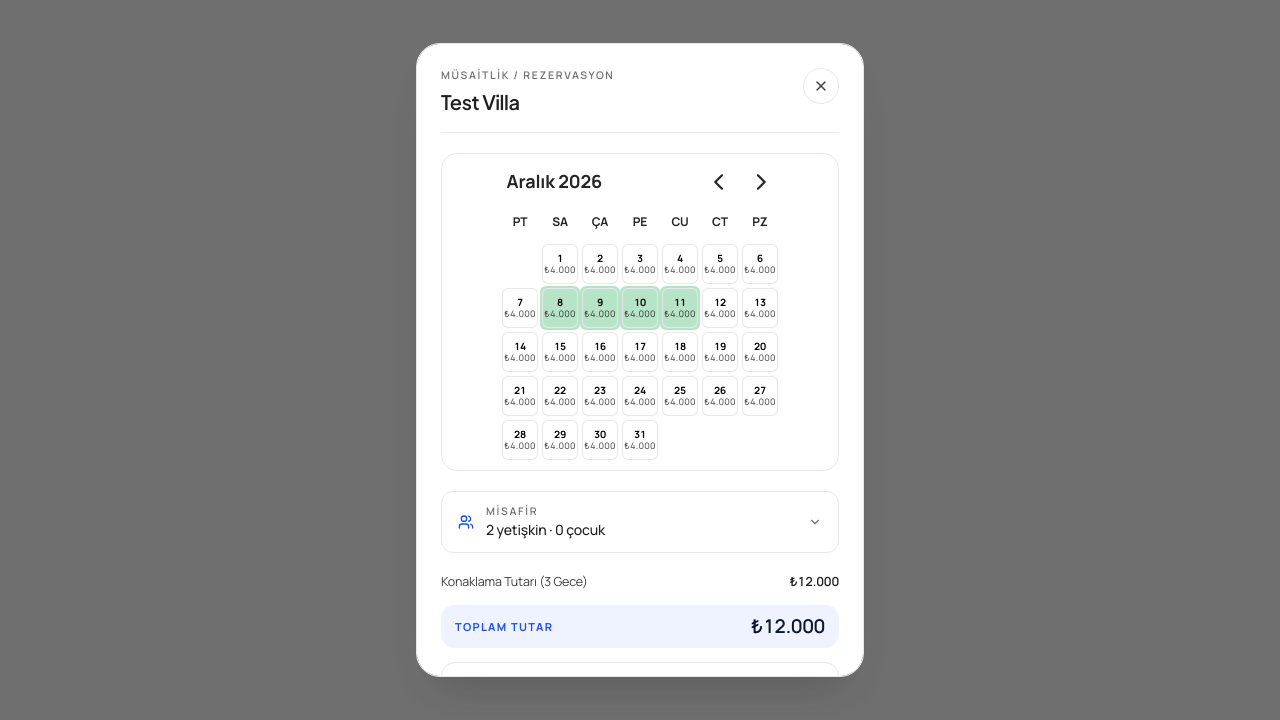
Test case: VillaCardBookingModal — URL'den gelen tarihler › 6) kullanıcı YENİ tarih seçerse normal seçim davranışı çalışmaya devam eder
Expected: the text "Konaklama Tutarı (3 Gece)" is shown, [441,573,588,592]
Step 1. Click the cell "20 ₺4.000" → (760, 352), box [740,330,780,374]
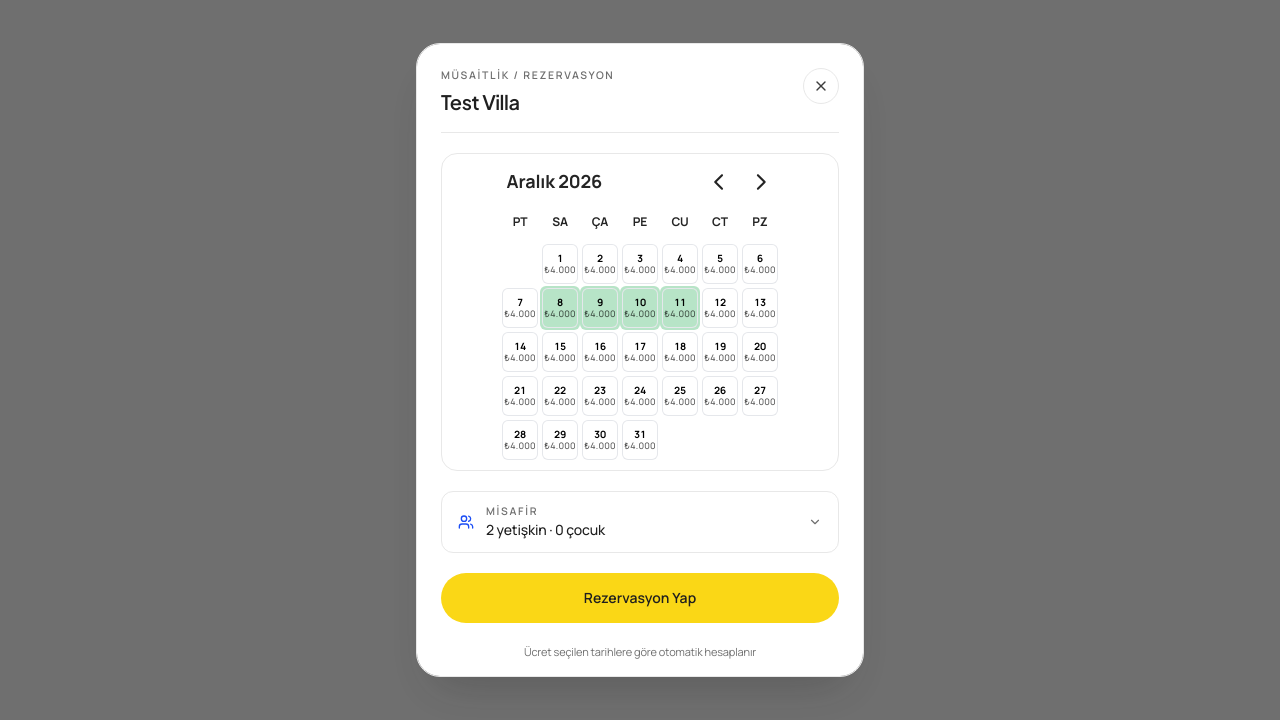
Step 2. Click the cell "25 ₺4.000" → (680, 396), box [660,374,700,418]
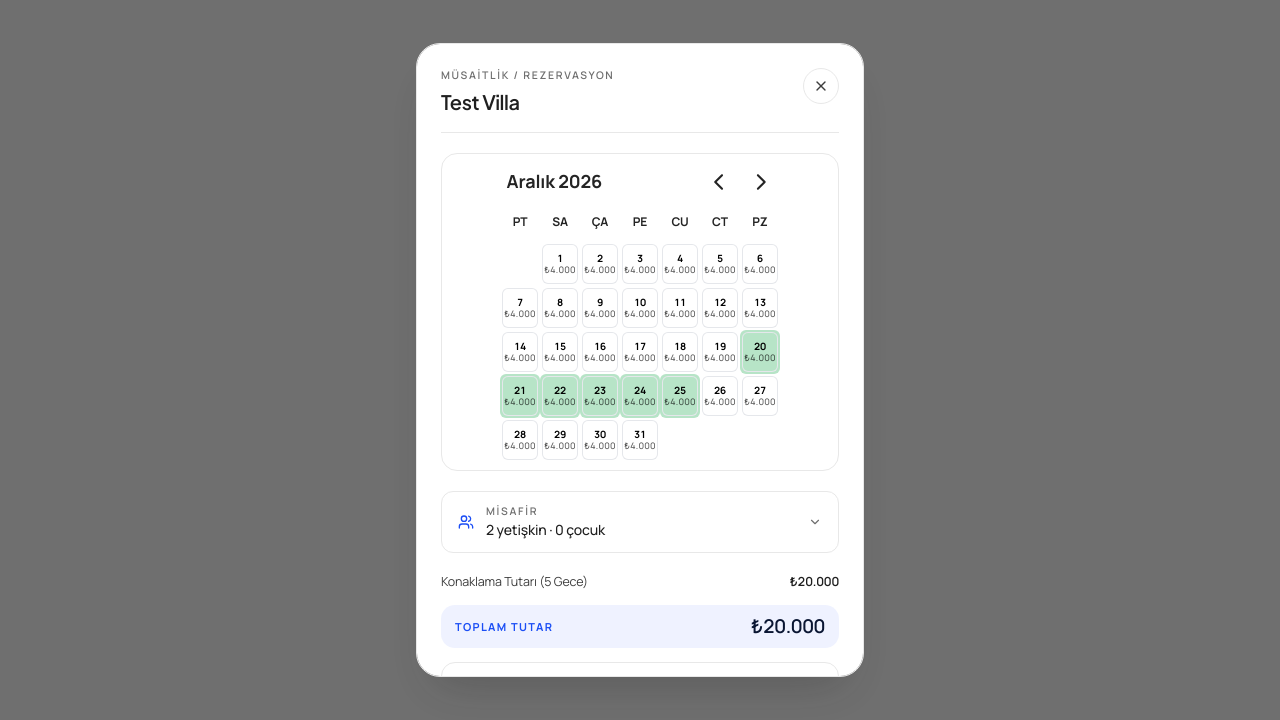
Expected: the text "Konaklama Tutarı (5 Gece)" is shown, [441,573,588,592]
